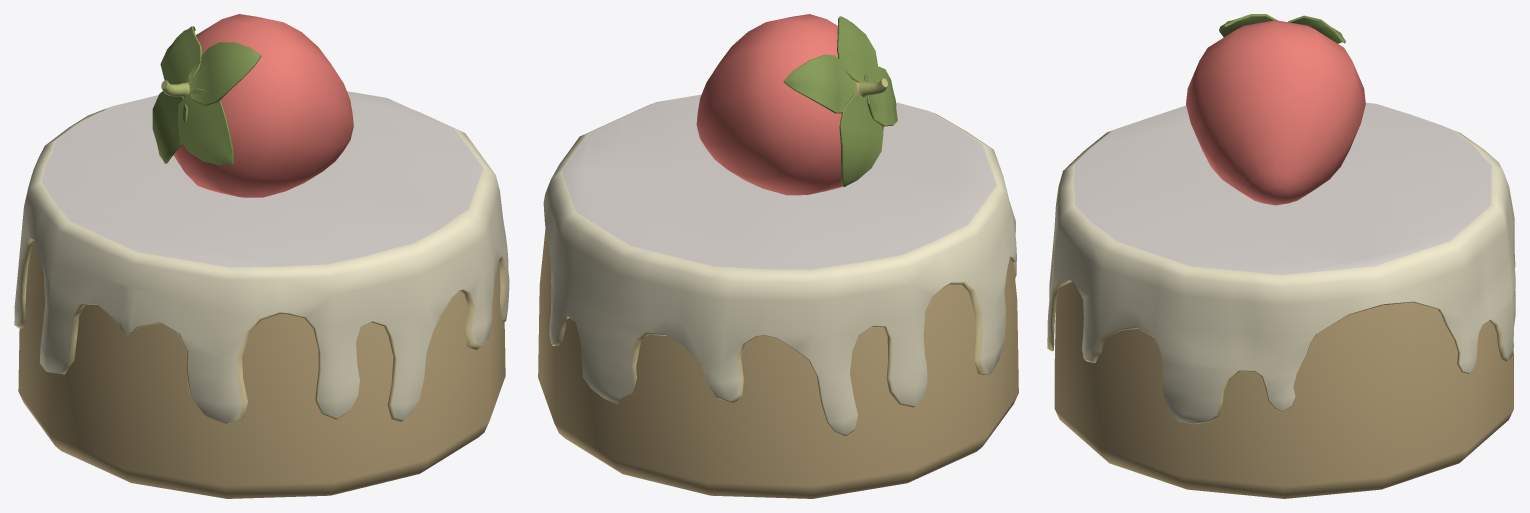
The model's file is atoll_sm_strawberryCake.fbx.
3 views of the same model, side by side, from view 1: azimuth 30°, elevation 25°; view 2: azimuth 150°, elevation 25°; view 3: azimuth 270°, elevation 25° (orthographic). The views are drawn at different scales.
Parts seen in each view (by area): view 1: Cake, Strawberry, polySurface7, polySurface8, polySurface6, polySurface3; view 2: Cake, Strawberry, polySurface6, polySurface3, polySurface8, polySurface7; view 3: Cake, Strawberry, polySurface3, polySurface8.
Boxes of the visible parts, x1=… form: Cake: x1=14, y1=91, x2=509, y2=498; Strawberry: x1=161, y1=14, x2=353, y2=197; polySurface7: x1=178, y1=88, x2=233, y2=165; polySurface8: x1=188, y1=42, x2=261, y2=105; polySurface6: x1=152, y1=91, x2=187, y2=163; polySurface3: x1=160, y1=26, x2=202, y2=84; Cake: x1=538, y1=94, x2=1018, y2=498; Strawberry: x1=696, y1=14, x2=887, y2=195; polySurface6: x1=839, y1=94, x2=883, y2=186; polySurface3: x1=783, y1=54, x2=856, y2=113; polySurface8: x1=837, y1=16, x2=878, y2=82; polySurface7: x1=864, y1=66, x2=897, y2=126; Cake: x1=1047, y1=102, x2=1515, y2=498; Strawberry: x1=1186, y1=20, x2=1365, y2=205; polySurface3: x1=1288, y1=15, x2=1345, y2=43; polySurface8: x1=1219, y1=14, x2=1277, y2=37.
Size of the model in its own units: 6.07 by 5.17 by 5.9.
